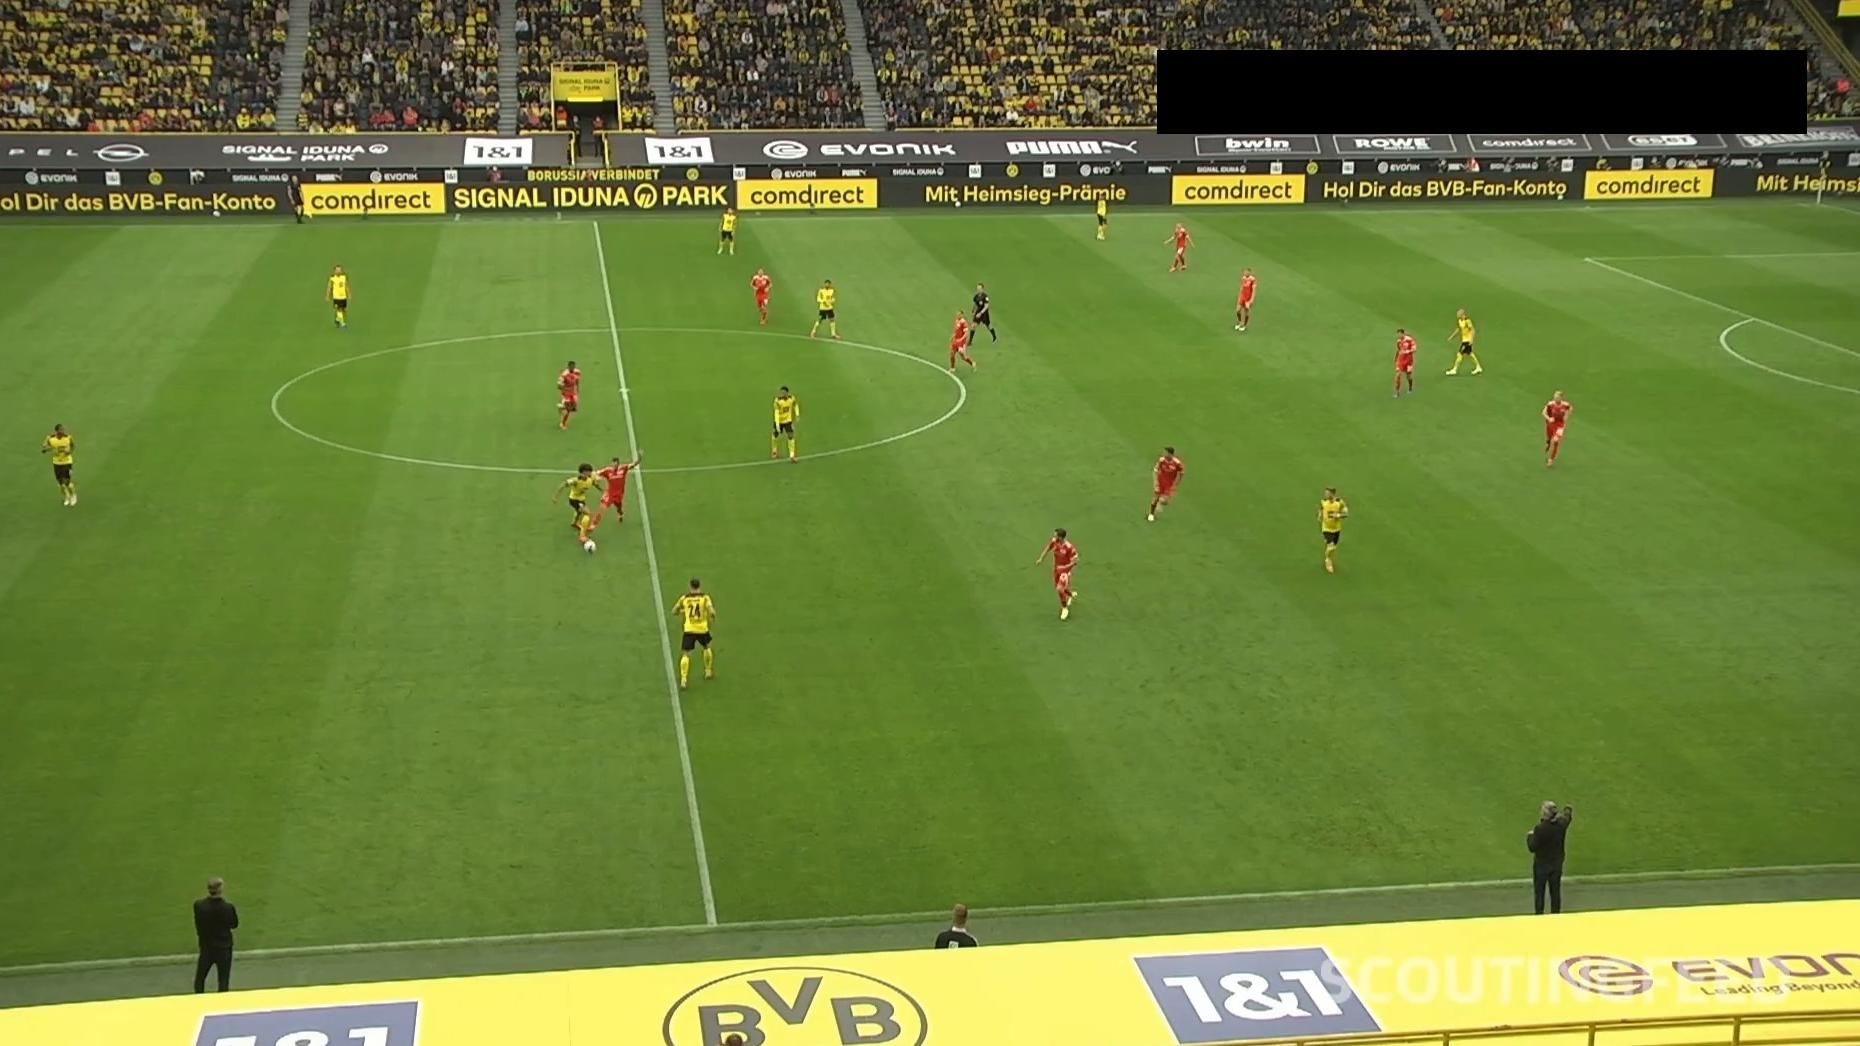ball: (581, 539, 598, 556)
